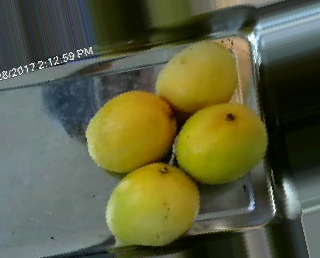Mango: (105, 164, 197, 246), (176, 103, 268, 183), (87, 91, 174, 175), (156, 40, 235, 114)
